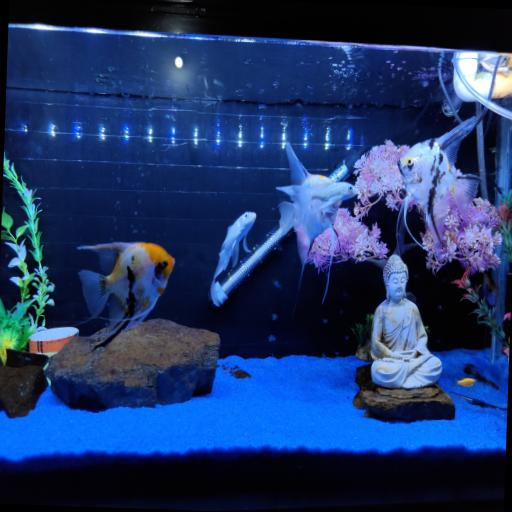Fish: (277, 144, 358, 289), (398, 117, 479, 253), (79, 242, 174, 333), (210, 212, 256, 306), (482, 273, 497, 306), (457, 379, 475, 387)
